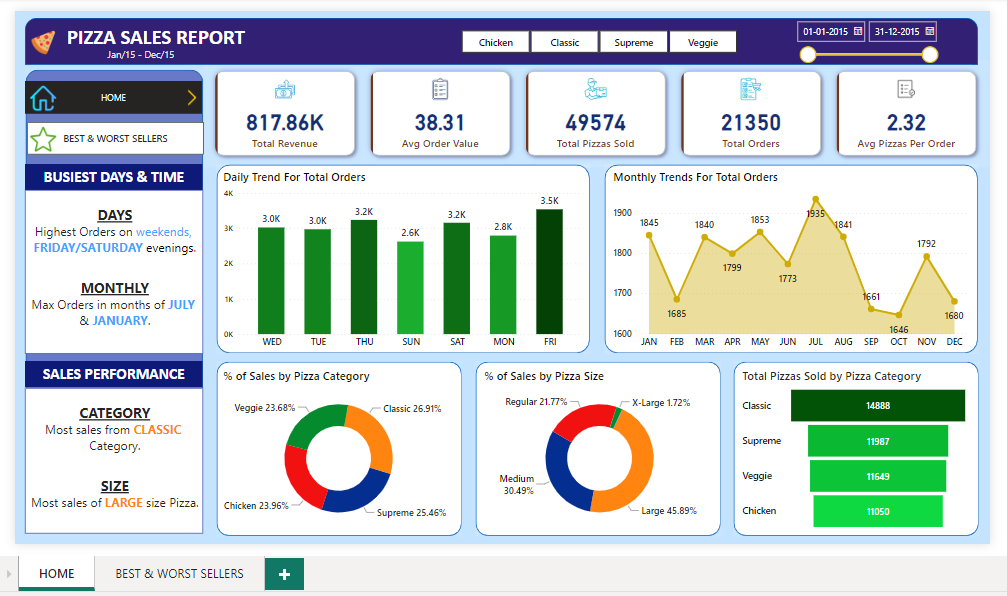

The dashboard page shown, as its layout file describes it:
{"tool":"powerbi","page":{"name":"HOME","canvas":[1500,820],"ordinal":0},"visuals":[{"type":"cardVisual","fields":{"Data":["pizza_sales.Total Revenue","pizza_sales.Avg Order Value","pizza_sales.Total Pizzas Sold","pizza_sales.Total Orders","pizza_sales.Avg Pizzas Per Order"]},"box":[290.6,75.9,1209,164.6],"z":0},{"type":"shape","box":[16.1,11.3,1465.7,72],"z":1000},{"type":"textbox","box":[61.3,16.1,309.9,50],"z":2000},{"type":"textbox","box":[132.4,50,122.7,37.1],"z":3000},{"type":"image","box":[16.1,24.2,56.5,48.4],"z":4000},{"type":"shape","box":[309.9,235.7,576,292.2],"z":5000},{"type":"columnChart","title":"Daily Trend For Total Orders","fields":{"Category":["pizza_sales.Order Day"],"Y":["pizza_sales.Total Orders"]},"box":[316,243,563.3,285],"z":6000},{"type":"shape","box":[905.6,235.7,576,292.2],"z":7000},{"type":"areaChart","title":"Monthly Trends For Total Orders","fields":{"Y":["pizza_sales.Total Orders"],"Category":["pizza_sales.Order Month"]},"box":[915,243.7,552,284.1],"z":8000},{"type":"shape","box":[309.9,539.1,379.3,269.6],"z":9000},{"type":"shape","box":[707,539.1,379.3,269.6],"z":10000},{"type":"shape","box":[1104.1,539.1,379.3,269.6],"z":11000},{"type":"donutChart","title":"% of Sales by Pizza Category","fields":{"Category":["pizza_sales.pizza_category"],"Y":["pizza_sales.Total Revenue"]},"box":[314.8,549,364.8,255],"z":12000},{"type":"donutChart","title":"% of Sales by Pizza Size","fields":{"Y":["pizza_sales.Total Revenue"],"Category":["pizza_sales.pizza_size"]},"box":[716.7,549,364.8,255],"z":13000},{"type":"funnel","title":"Total Pizzas Sold by Pizza Category","fields":{"Category":["pizza_sales.pizza_category"],"Y":["pizza_sales.Total Pizzas Sold"]},"box":[1113.8,549,358.3,255],"z":14000},{"type":"shape","box":[16,88.8,275,715],"z":15000},{"type":"textbox","box":[16,235.7,273,40.4],"z":16000},{"type":"textbox","box":[16.1,539.1,273,40.4],"z":17000},{"type":"textbox","box":[16.1,276,274.4,251.8],"z":18000},{"type":"textbox","box":[16.1,579.5,274.4,224.4],"z":19000},{"type":"slicer","fields":{"Values":["pizza_sales.pizza_category"]},"box":[661.8,22.6,473,48.4],"z":20000},{"type":"slicer","fields":{"Values":["pizza_sales.order_date"]},"box":[1191.3,6.5,237.3,76],"z":21000},{"type":"pageNavigator","box":[16.1,108.1,272.8,50],"z":22000},{"type":"pageNavigator","box":[17.8,171.1,272.8,50],"z":23000},{"type":"image","box":[255,109.8,33.9,46.8],"z":24000},{"type":"image","box":[16.1,109.8,56.5,50],"z":25000},{"type":"image","box":[16.1,172.7,56.5,50],"z":26000}]}

Visuals, with their boxes on the page's 1500x820 design canvas (x1, y1, x2, y2). These are canvas units, not pixel positions in the 1007x596 screenshot, which may show the page scaled, cropped or inside an application window:
cardVisual - pizza_sales.Total Revenue x pizza_sales.Avg Order Value: (291,76,1500,240)
shape: (16,11,1482,83)
textbox: (61,16,371,66)
textbox: (132,50,255,87)
image: (16,24,73,73)
shape: (310,236,886,528)
"Daily Trend For Total Orders" columnChart: (316,243,879,528)
shape: (906,236,1482,528)
"Monthly Trends For Total Orders" areaChart: (915,244,1467,528)
shape: (310,539,689,809)
shape: (707,539,1086,809)
shape: (1104,539,1483,809)
"% of Sales by Pizza Category" donutChart: (315,549,680,804)
"% of Sales by Pizza Size" donutChart: (717,549,1082,804)
"Total Pizzas Sold by Pizza Category" funnel: (1114,549,1472,804)
shape: (16,89,291,804)
textbox: (16,236,289,276)
textbox: (16,539,289,580)
textbox: (16,276,290,528)
textbox: (16,580,290,804)
slicer - pizza_sales.pizza_category: (662,23,1135,71)
slicer - pizza_sales.order_date: (1191,6,1429,82)
pageNavigator: (16,108,289,158)
pageNavigator: (18,171,291,221)
image: (255,110,289,157)
image: (16,110,73,160)
image: (16,173,73,223)
